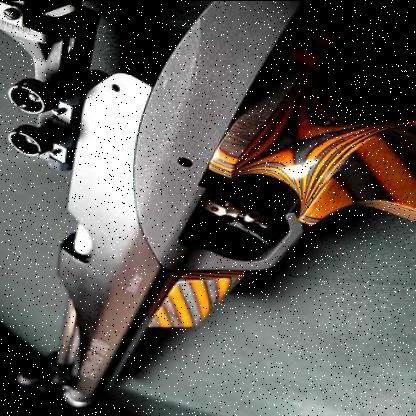rifle: (11, 1, 415, 410)
